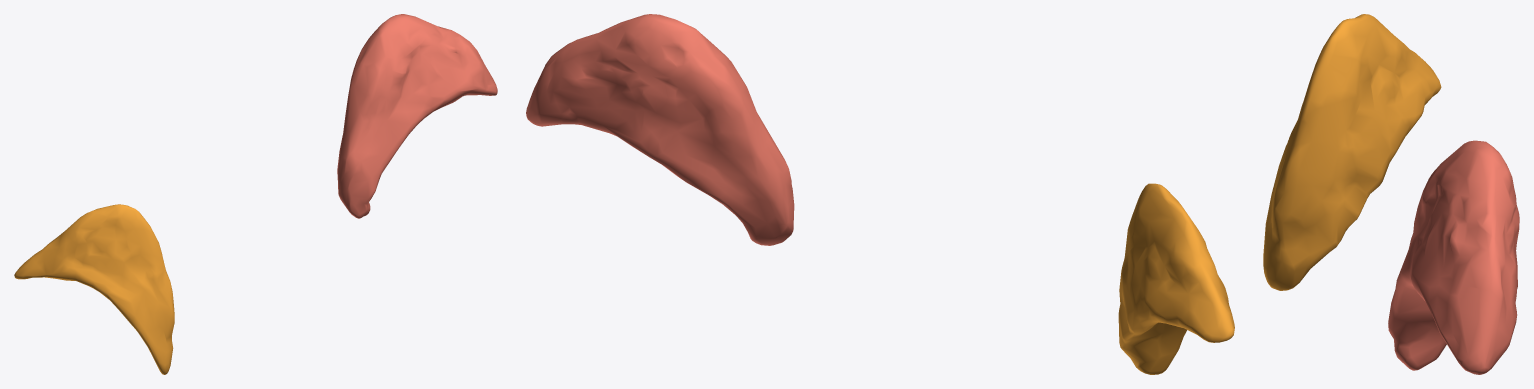
Rendered from adrenal.glb.
3 renders of one model, left to right at view 1: azimuth 30°, elevation 25°; view 2: azimuth 150°, elevation 25°; view 3: azimuth 270°, elevation 25°, orthographic. The views are drawn at different scales.
Visible parts, largest first — view 1: Left adrenal gland, Right adrenal gland; view 2: Left adrenal gland, Right adrenal gland; view 3: Right adrenal gland, Left adrenal gland.
Boxes of the visible parts, x1,y1,x2,y2 form: Left adrenal gland: (337,14,497,218); Right adrenal gland: (14,204,174,374); Left adrenal gland: (526,14,794,245); Right adrenal gland: (1118,183,1234,374); Right adrenal gland: (1263,14,1441,290); Left adrenal gland: (1388,140,1519,374).
Size of the model in its own units: 2 by 0.9085 by 0.5681.
